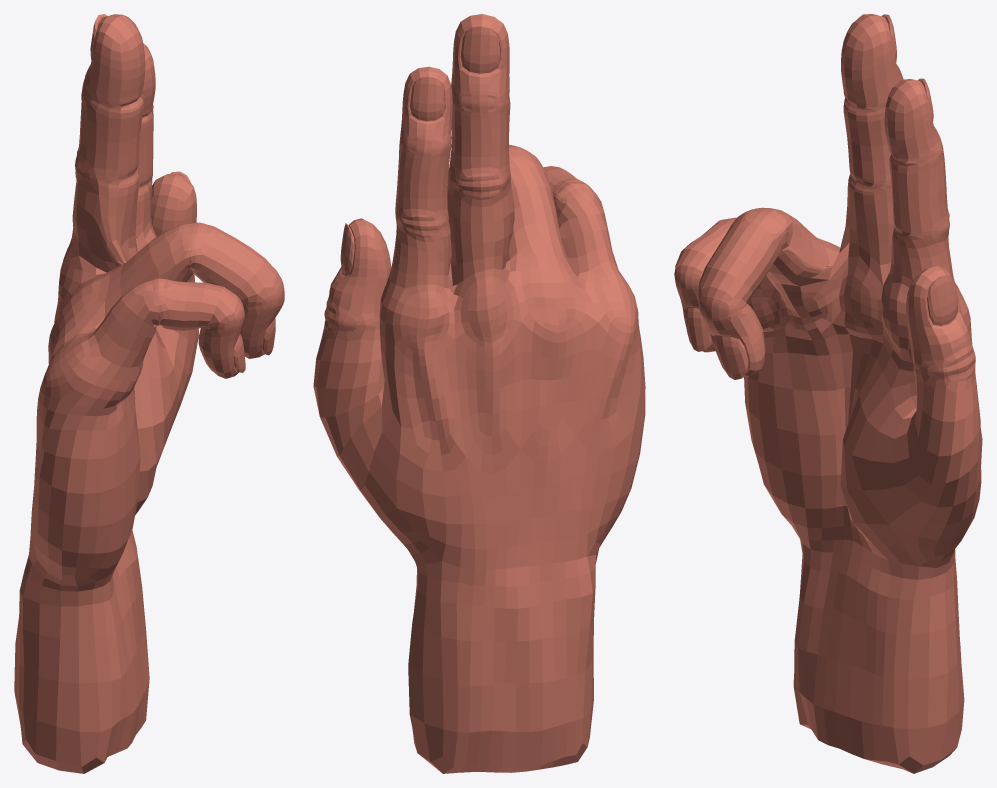
Rendered from saha.glb.
3 views of the same model, side by side, from view 1: azimuth 30°, elevation 25°; view 2: azimuth 150°, elevation 25°; view 3: azimuth 270°, elevation 25° (orthographic). The views are drawn at different scales.
Visible parts, largest first — view 1: ZBrushPolyMesh3D; view 2: ZBrushPolyMesh3D; view 3: ZBrushPolyMesh3D.
Boxes of the visible parts, x1=… form: ZBrushPolyMesh3D: x1=14, y1=14, x2=284, y2=773; ZBrushPolyMesh3D: x1=313, y1=14, x2=645, y2=773; ZBrushPolyMesh3D: x1=674, y1=14, x2=982, y2=773.
Bounding box in the file's own units: 1.84 × 5.42 × 2.03.
